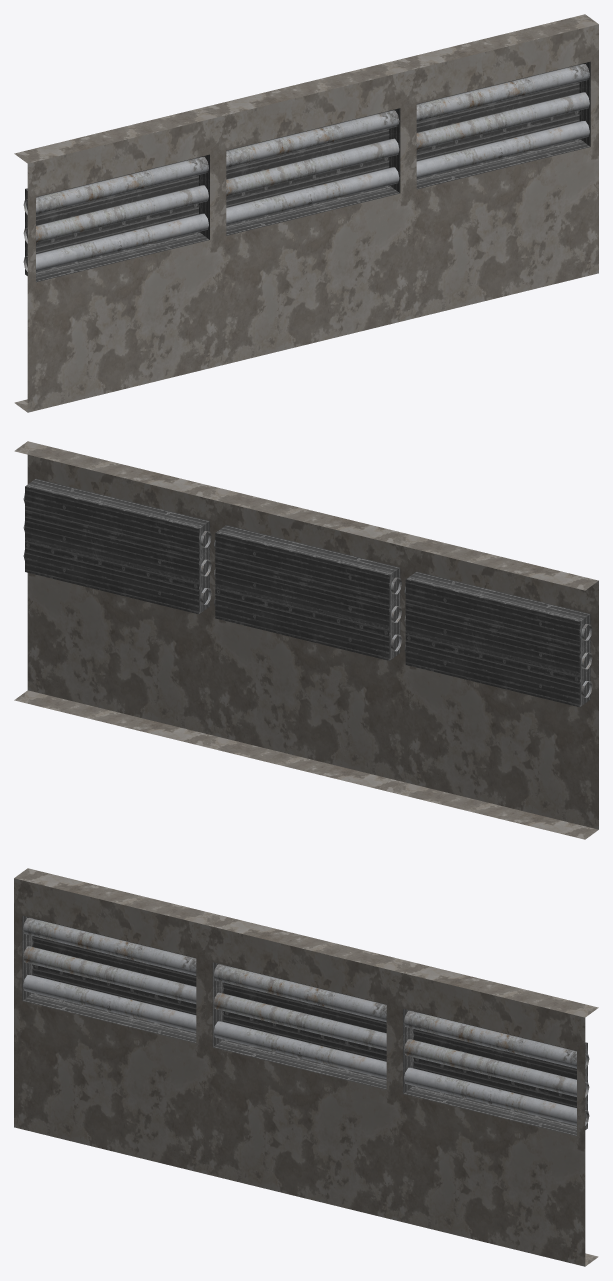
The model's file is WallTriplePipes.glb.
3 views of the same model, one above another, from view 1: azimuth 30°, elevation 25°; view 2: azimuth 150°, elevation 25°; view 3: azimuth 330°, elevation 25° (orthographic).
Visible parts, largest first — view 1: Wall_Single_Recess_Pipes_Cube.007; view 2: Wall_Single_Recess_Pipes_Cube.007; view 3: Wall_Single_Recess_Pipes_Cube.007.
Boxes of the visible parts, x1,y1,x2,y2 form: Wall_Single_Recess_Pipes_Cube.007: (14,14,598,412); Wall_Single_Recess_Pipes_Cube.007: (14,441,598,839); Wall_Single_Recess_Pipes_Cube.007: (14,868,598,1266).
Size of the model in its own units: 12 by 5 by 0.5.
3 materials, 3 textured.
